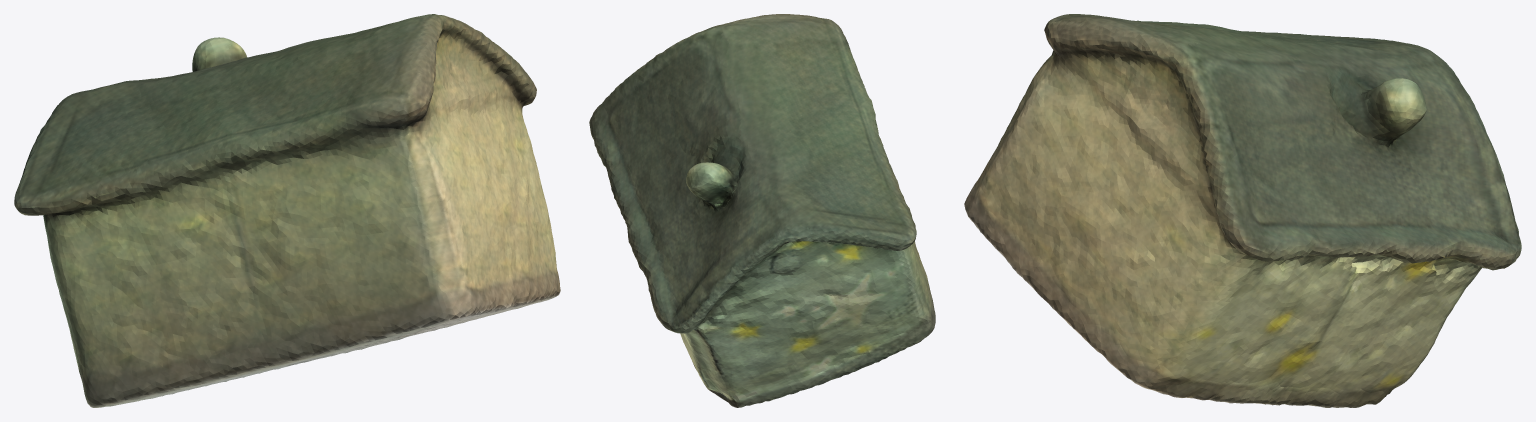
The picture shows the model from 3 angles, left to right: view 1: azimuth 30°, elevation 25°; view 2: azimuth 150°, elevation 25°; view 3: azimuth 270°, elevation 25°; orthographic projection. The views are drawn at different scales.
Visible parts, largest first — view 1: world; view 2: world; view 3: world.
Part boxes in pixels (x1=…): world: x1=14, y1=14, x2=560, y2=407; world: x1=589, y1=14, x2=935, y2=407; world: x1=964, y1=14, x2=1521, y2=407.
Size of the model in its own units: 1.19 by 0.9829 by 1.21.
Materials: 1 (1 with a texture image).
